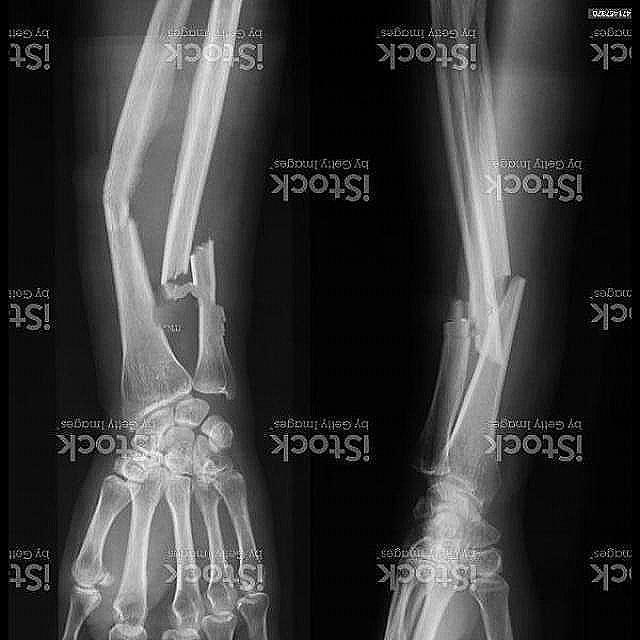bone: (152, 225, 228, 306), (80, 171, 149, 257), (479, 251, 534, 328), (440, 284, 481, 365)
